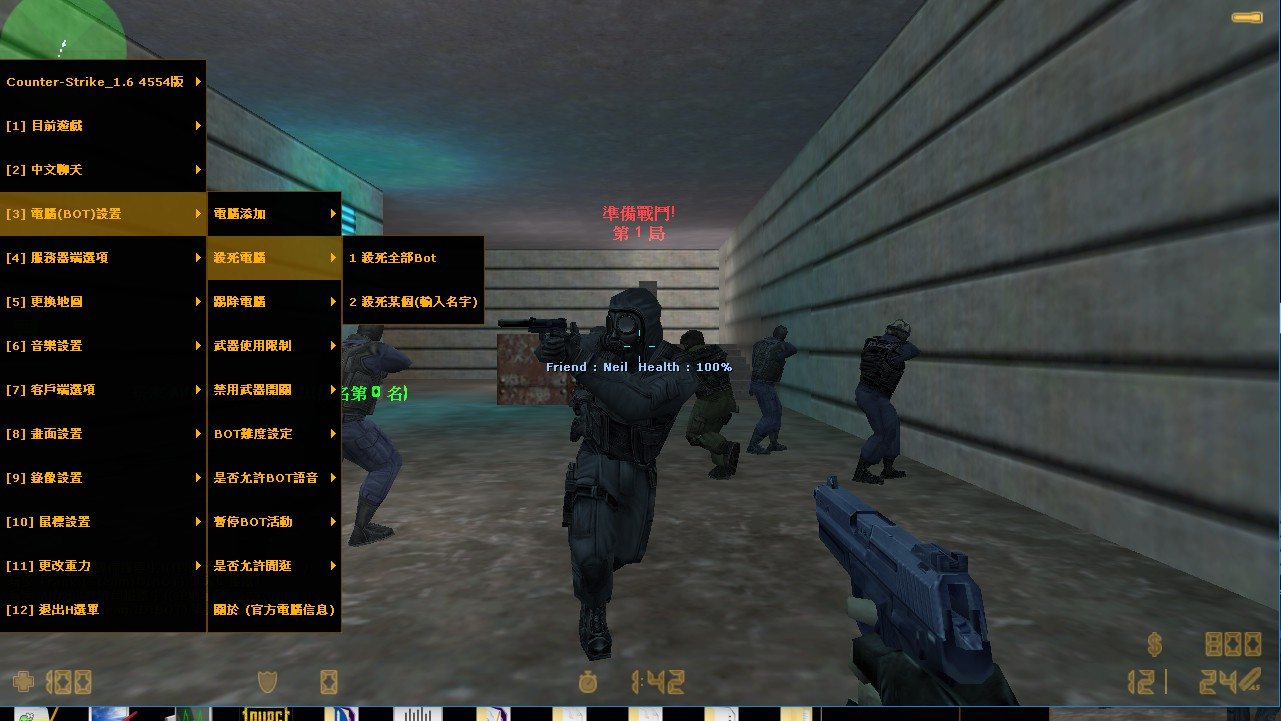person: (844, 310, 926, 484), (745, 318, 793, 451)
